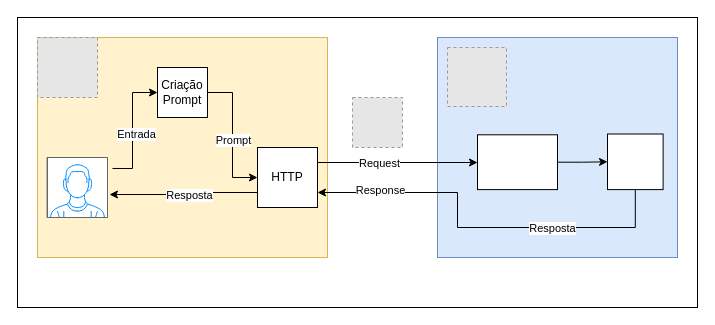
Some shapes in this 715 by 325 pixel diagram are drawn without their labels. Grey dashed boxes stand in for pictures. Each missing label, with the centre of its shape:
Maritaca: [634,161]
Tokenização: [517,162]
